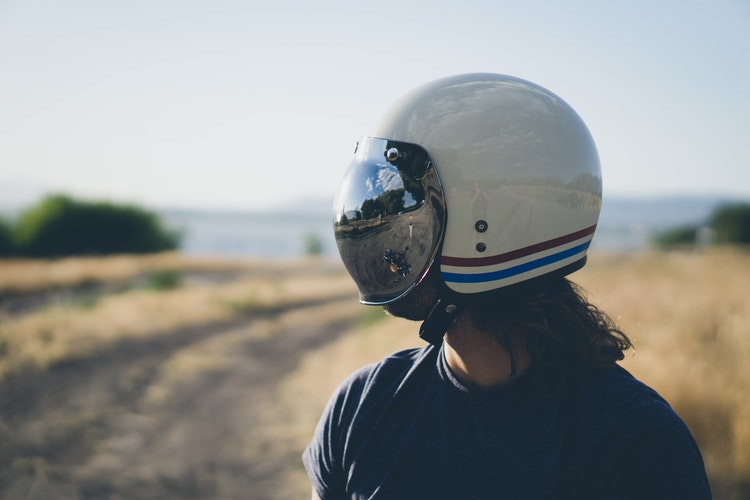helmet: (337, 71, 610, 326)
